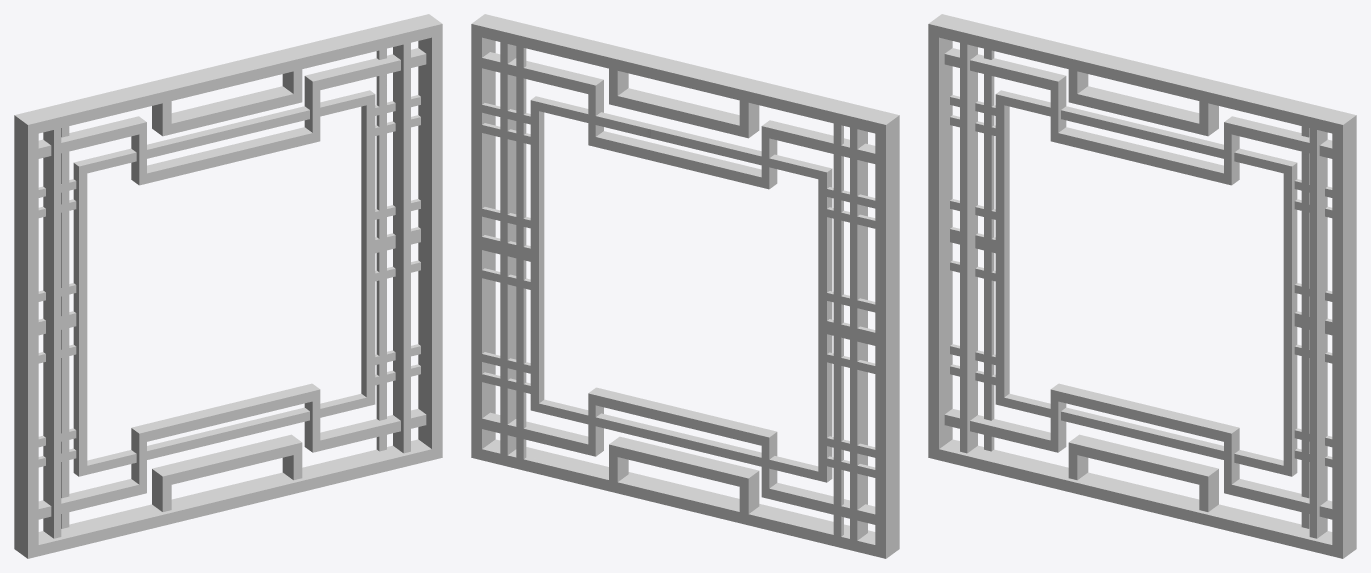
3 views of the same model, side by side, from view 1: azimuth 30°, elevation 25°; view 2: azimuth 150°, elevation 25°; view 3: azimuth 330°, elevation 25° (orthographic).
Visible parts, largest first — view 1: node_id41; view 2: node_id41; view 3: node_id41.
Boxes of the visible parts, x1,y1,x2,y2 form: node_id41: [14, 14, 442, 558]; node_id41: [471, 14, 899, 558]; node_id41: [928, 14, 1356, 558].
Size of the model in its own units: 0.512 by 0.512 by 0.0288.
1 material, 1 textured.
